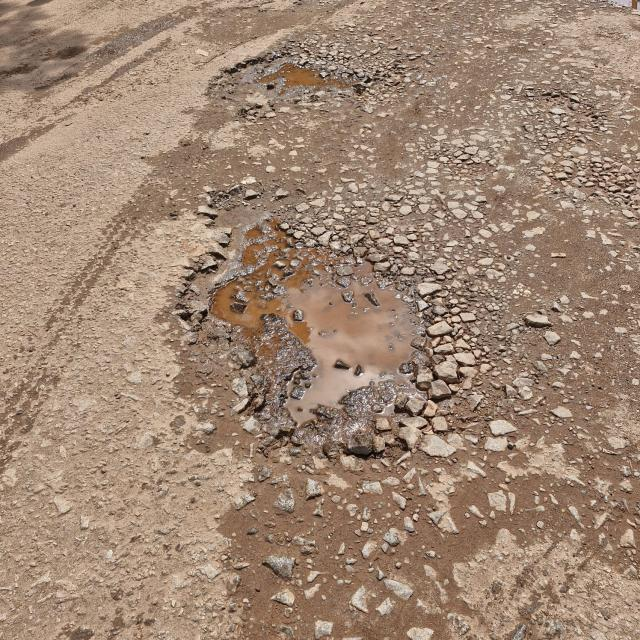pothole: (164, 197, 479, 467), (209, 24, 391, 108)
